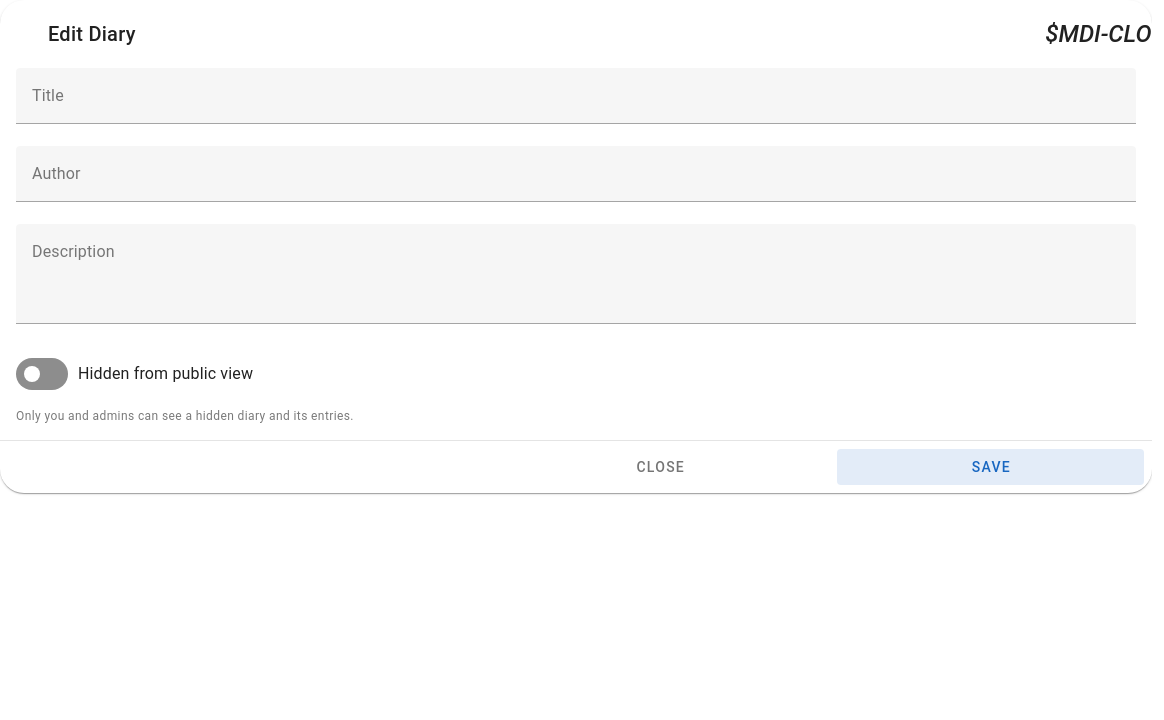
Test: DiaryEditor › ValidationFailureAuthorTooShort
The image size is (1164, 720).
Check: the message with id "author-messages" is empty, box top-left (16, 202), bottom-right (1136, 224)
# Change Bad values
Type "1234" into the field with id "author" at coordinates (576, 174), box top-left (16, 146), bottom-right (1136, 202)
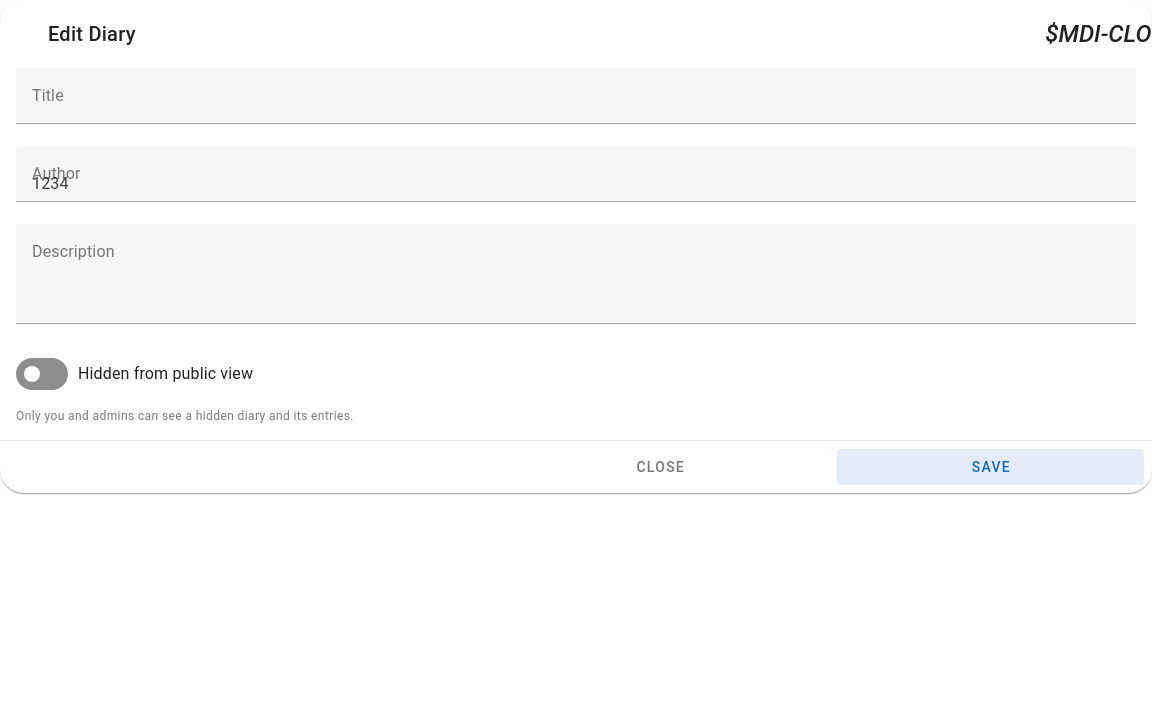
Submit the form from the button with id "save", box top-left (837, 449), bottom-right (1144, 485)
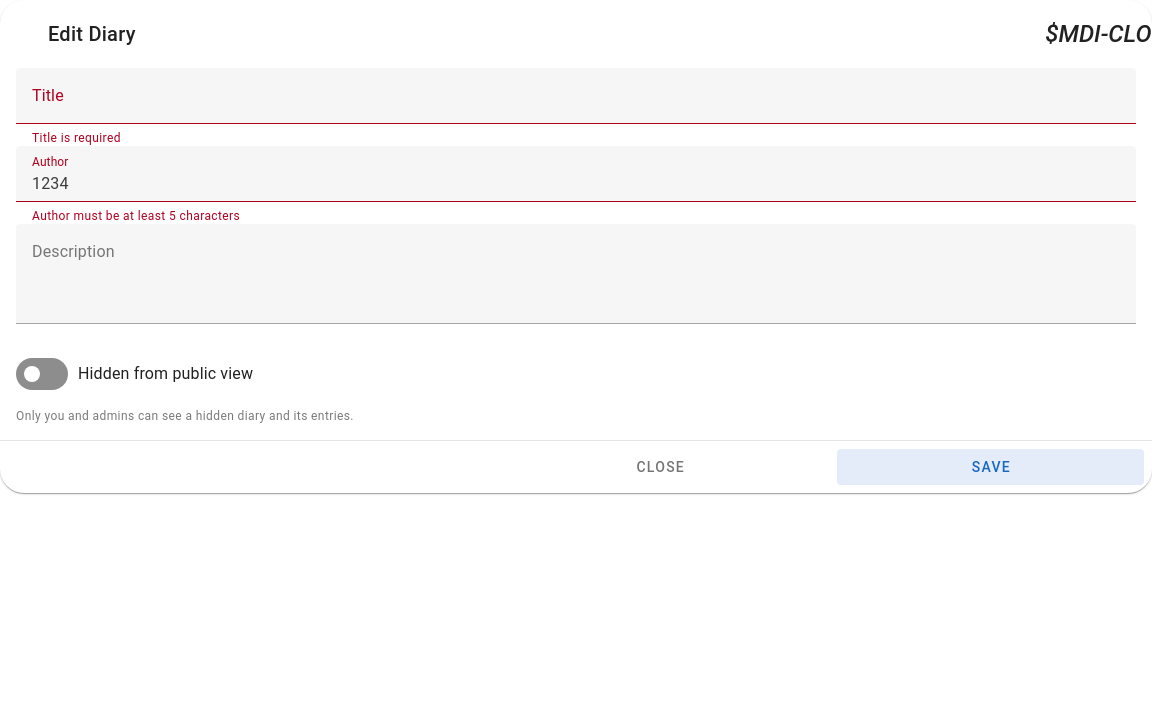
Check: the message with id "author-messages" reads "Author must be at least 5 characters", box top-left (32, 209), bottom-right (240, 223)
